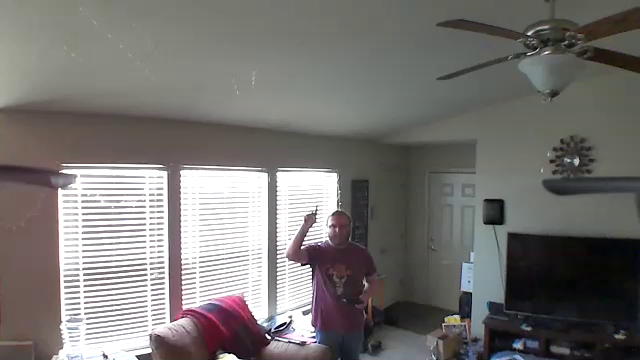up: (300, 200, 320, 230)
